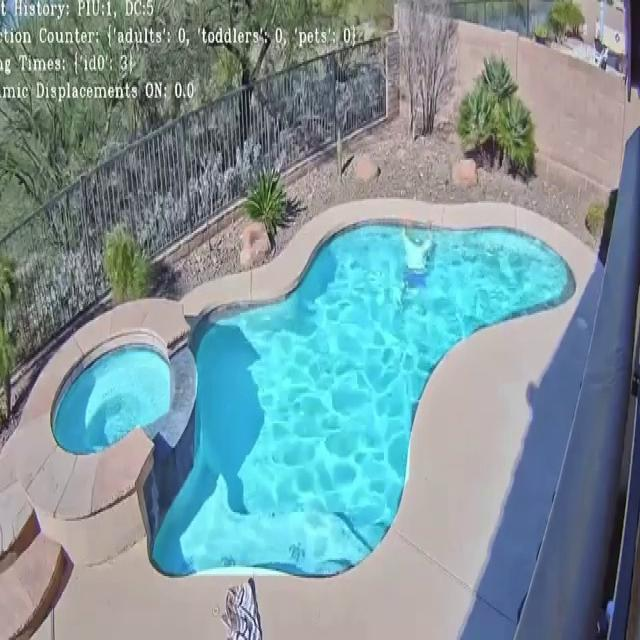child: (402, 222, 436, 294)
